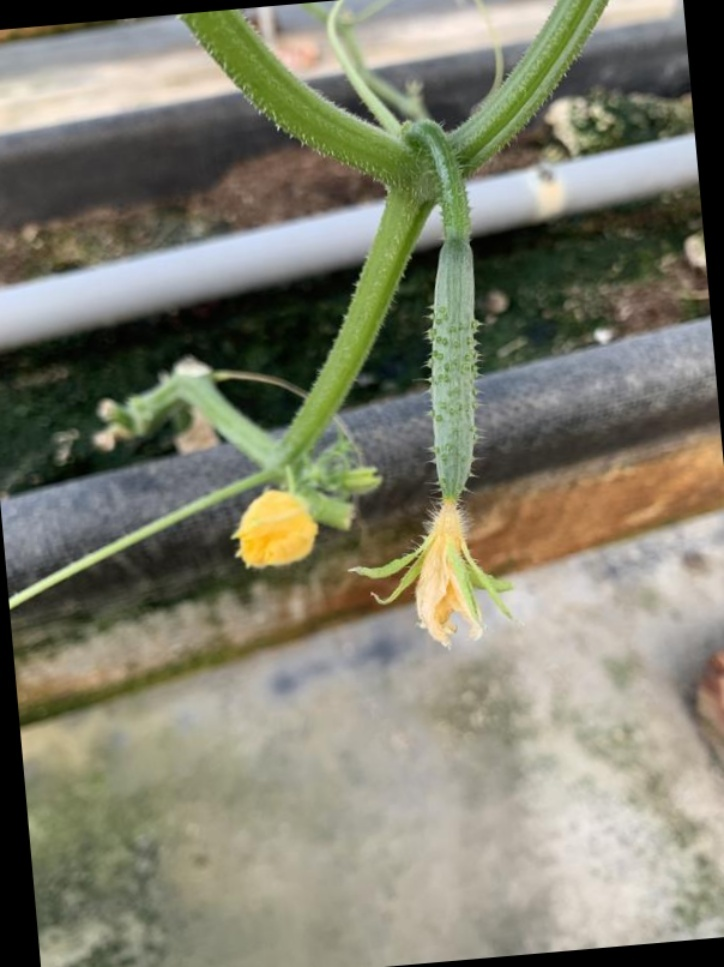bear: (356, 230, 528, 651)
bud: (231, 480, 323, 571)
